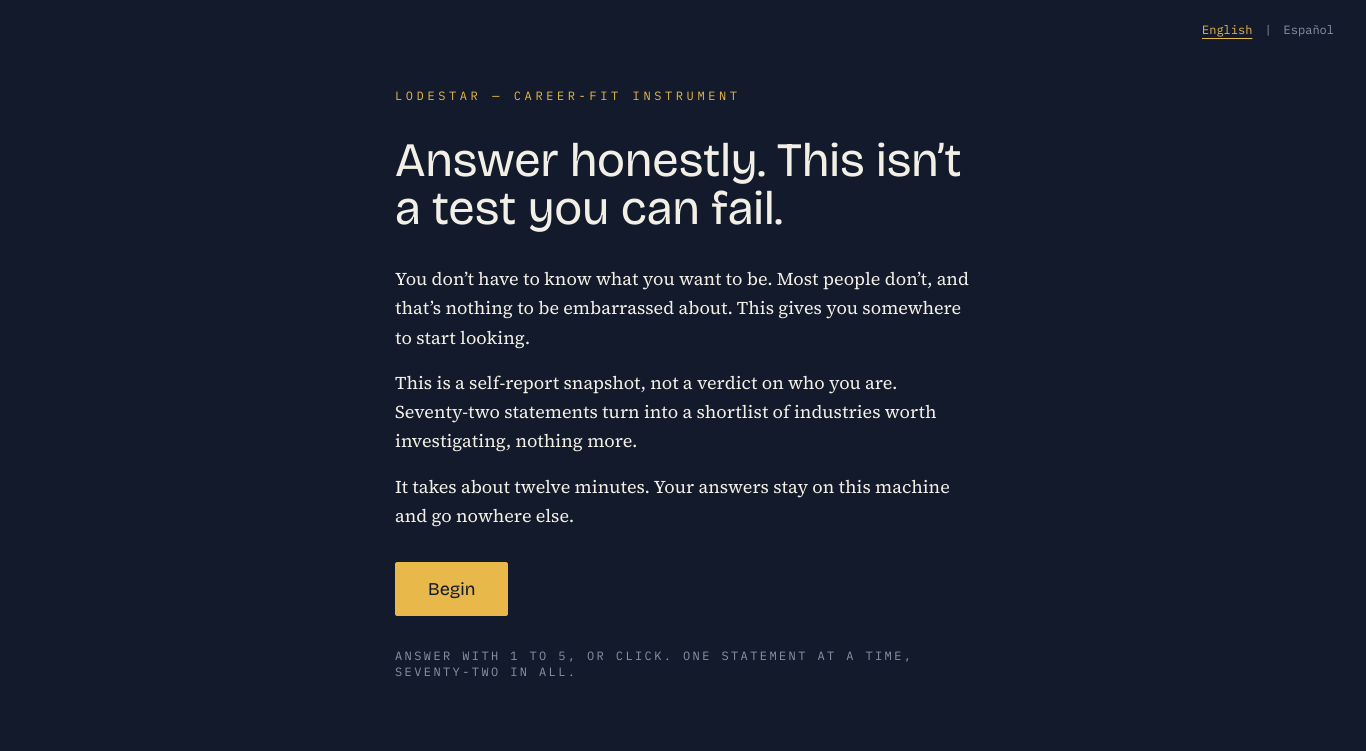
statement explanations › toggles the plain-language note for the current item
What coordinates should you click on to do the following:
click the button "Begin"
I would click on:
 (452, 589)
Its box is [395,562,508,616].
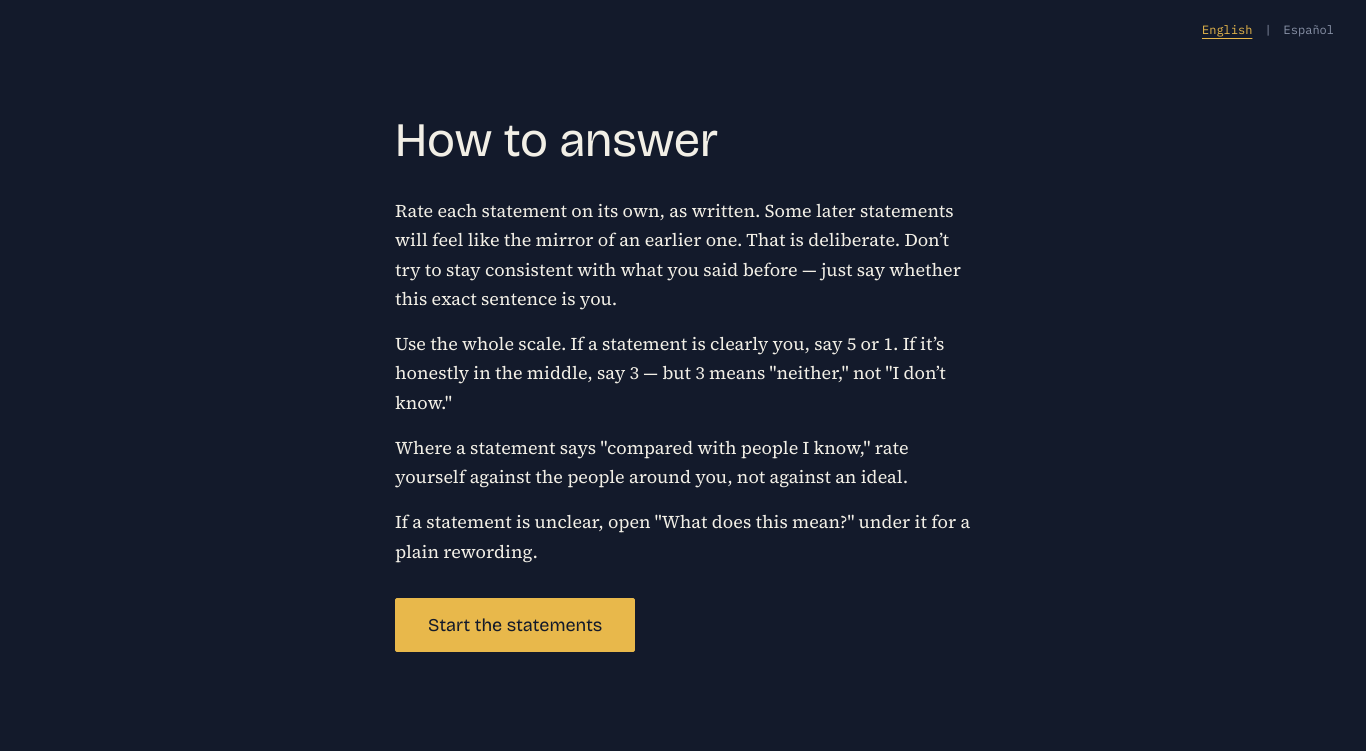
What coordinates should you click on to do the following:
click the button "Start the statements"
I would click on:
 (515, 625)
Its box is [395,598,635,652].
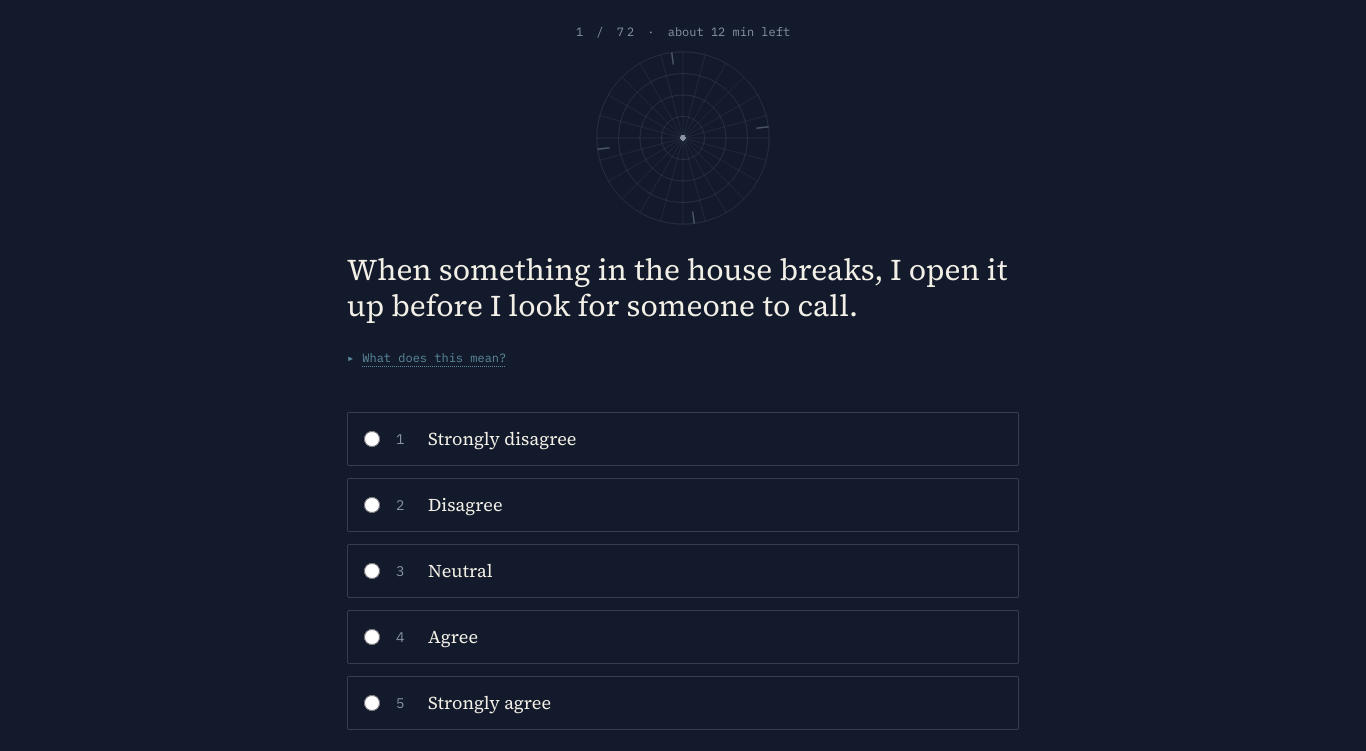
What coordinates should you click on to do the following:
click the button "What does this mean?"
I would click on:
 (427, 358)
Its box is [343,336,510,380].
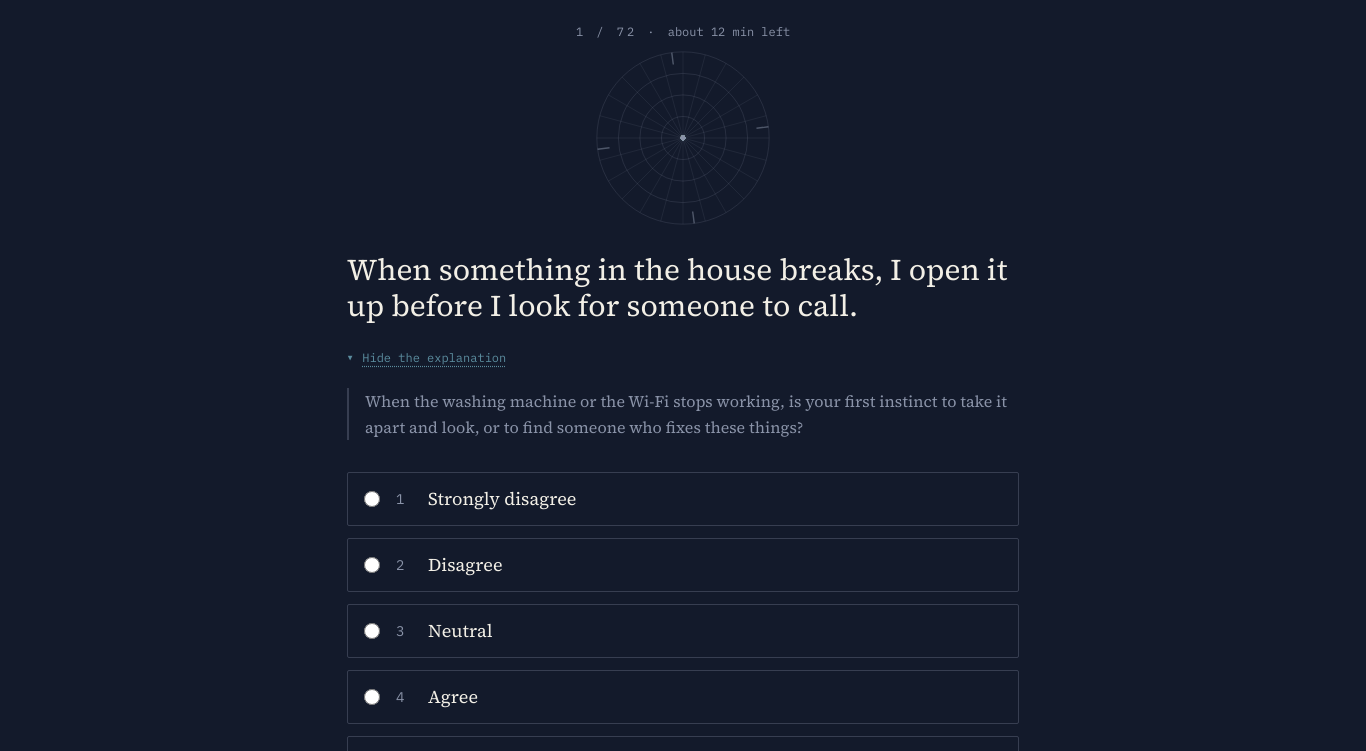
Now the button named "What does this mean?" is expanded
Now the button named "What does this mean?" reads "Hide the explanation"
What coordinates should you click on to do the following:
click the button named "What does this mean?"
I would click on:
 (427, 358)
Its box is [343,336,510,380].
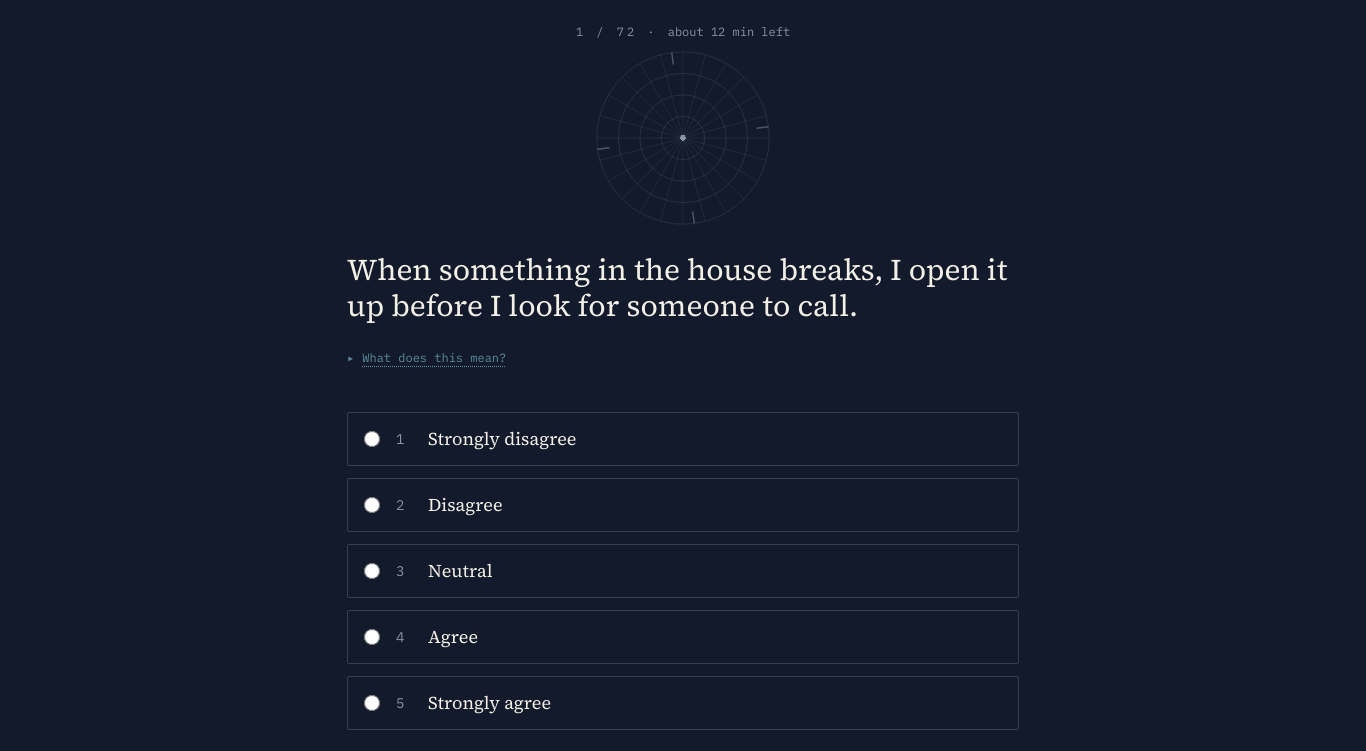
Now the text "When the washing machine or the Wi-Fi stops working, is your first instinct to take it apart and look, or to find someon" is gone
Now the button "What does this mean?" is shown, box [343,336,510,380]
